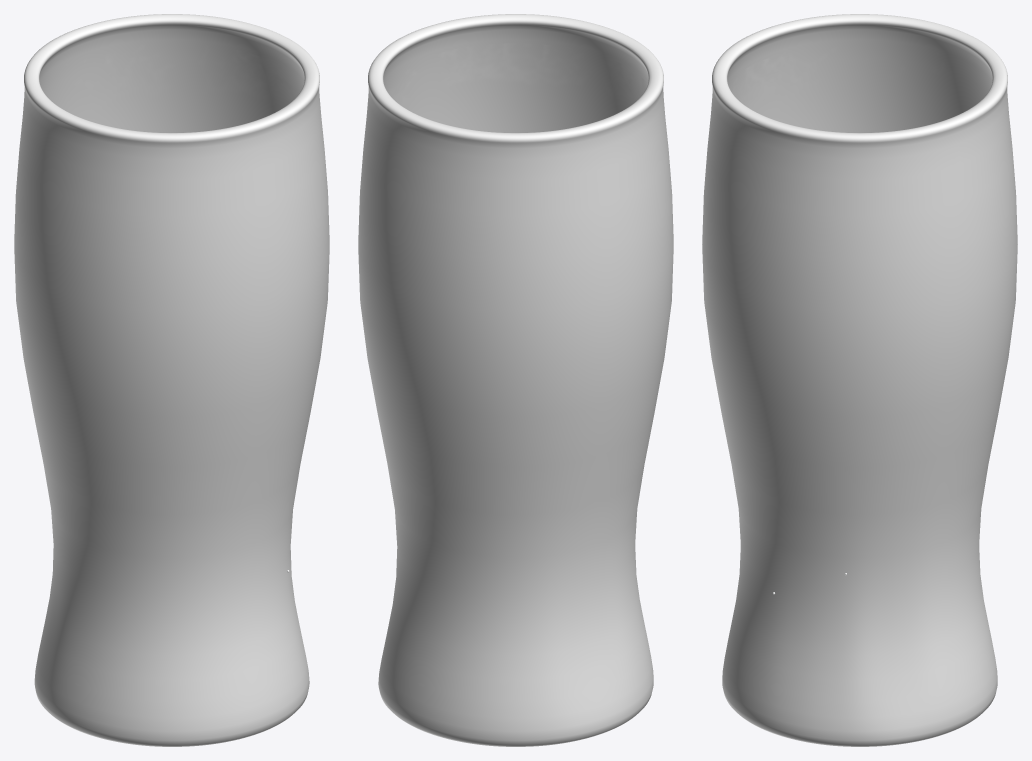
The model's file is beer.glb.
The picture shows the model from 3 angles, left to right: view 1: azimuth 30°, elevation 25°; view 2: azimuth 150°, elevation 25°; view 3: azimuth 270°, elevation 25°; orthographic projection.
Visible parts, largest first — view 1: Stakan, Pena_stakana; view 2: Stakan, Pena_stakana; view 3: Stakan, Pena_stakana.
Part boxes in pixels (x1=…): Stakan: x1=14, y1=14, x2=329, y2=746; Pena_stakana: x1=78, y1=56, x2=294, y2=118; Stakan: x1=358, y1=14, x2=673, y2=746; Pena_stakana: x1=391, y1=44, x2=645, y2=109; Stakan: x1=702, y1=14, x2=1017, y2=746; Pena_stakana: x1=728, y1=57, x2=947, y2=131.
Size of the model in its own units: 0.0464 by 0.0999 by 0.0464.
Materials: 5 (1 with a texture image).
